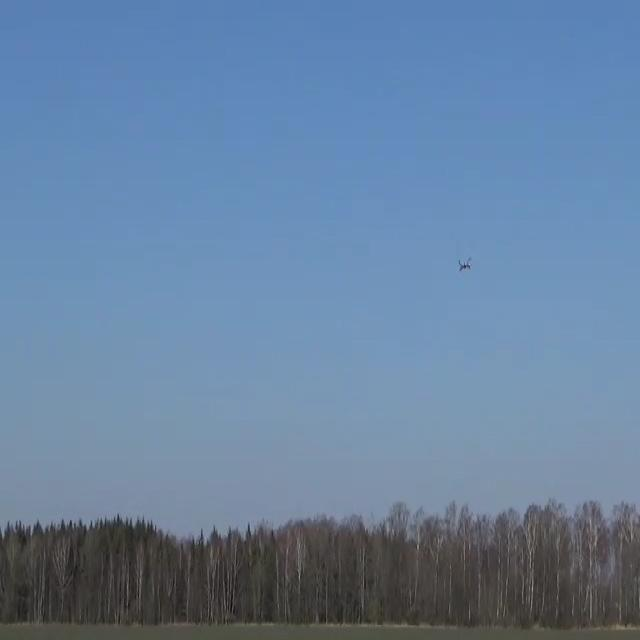drone: (458, 256, 471, 272)
